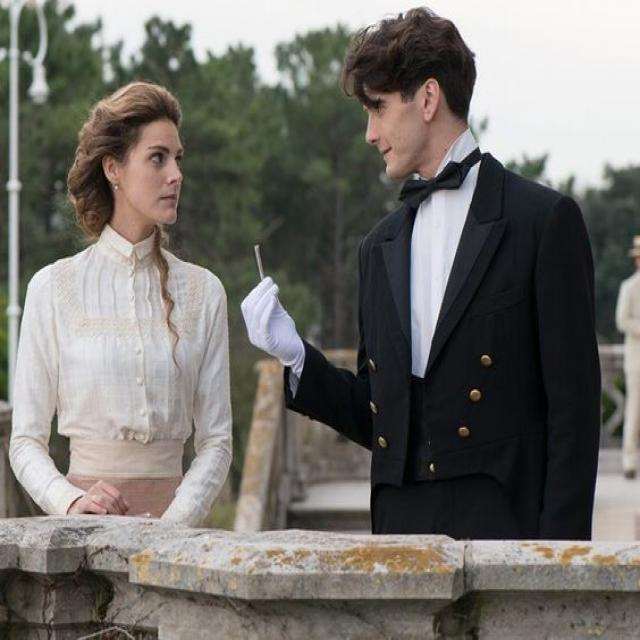cigarette: (253, 241, 270, 295)
